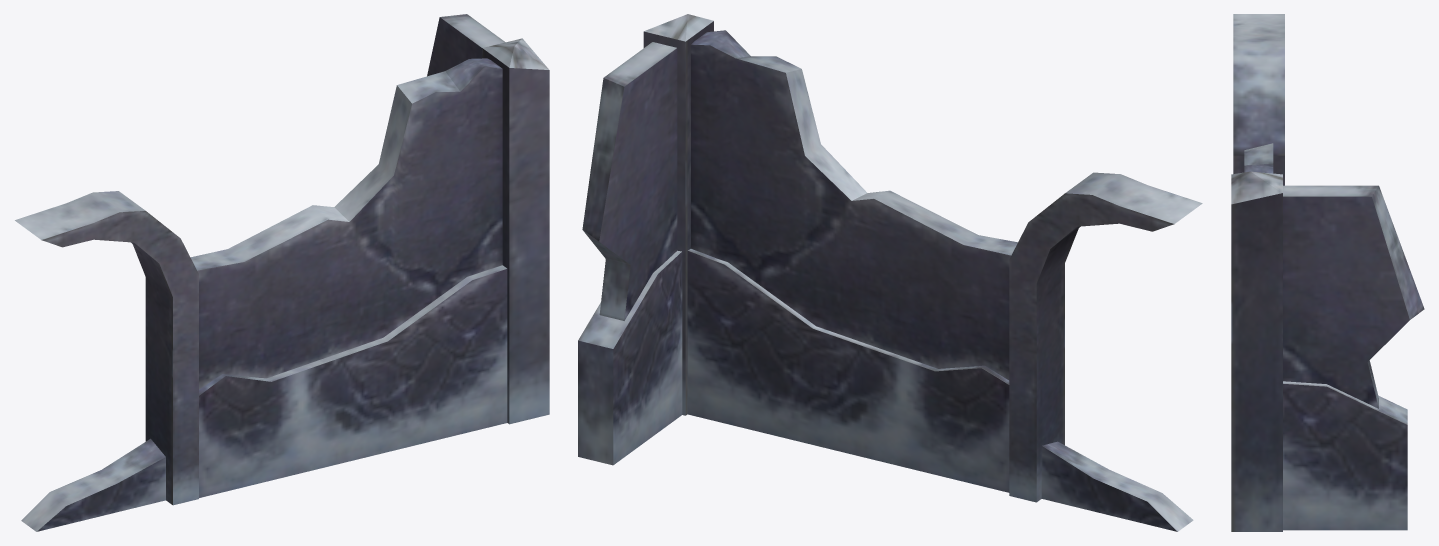
Rendered from yw_wanglingzhita_cuiqiang03.FBX.
3 renders of one model, left to right at view 1: azimuth 30°, elevation 25°; view 2: azimuth 150°, elevation 25°; view 3: azimuth 270°, elevation 25°, orthographic. The views are drawn at different scales.
Parts seen in each view (by area): view 1: yw_wanglingzhita_cuiqiang03; view 2: yw_wanglingzhita_cuiqiang03; view 3: yw_wanglingzhita_cuiqiang03.
Part boxes in pixels (left/top/right/bottom): yw_wanglingzhita_cuiqiang03: left=15, top=14, right=549, bottom=531; yw_wanglingzhita_cuiqiang03: left=578, top=14, right=1202, bottom=531; yw_wanglingzhita_cuiqiang03: left=1231, top=14, right=1424, bottom=531.
Bounding box in the file's own units: 753 × 520 × 261.
